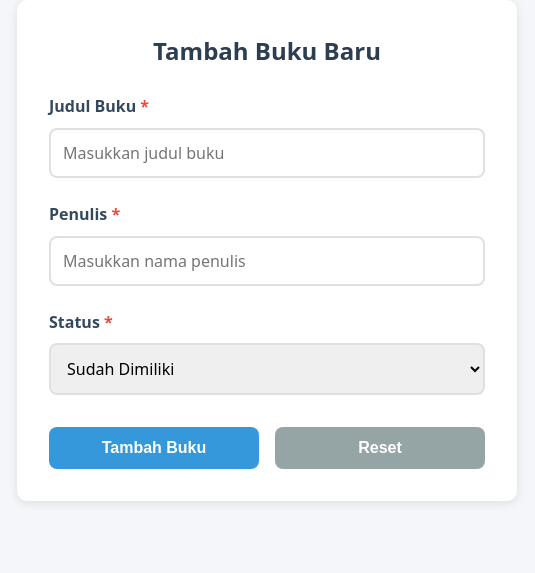
BookForm Component › should show validation errors for short inputs
# Isi dengan input yang terlalu pendek
Step 1. Type "ab" into the field labelled "Judul Buku *" → coordinates (267, 153), box [49, 128, 485, 178]
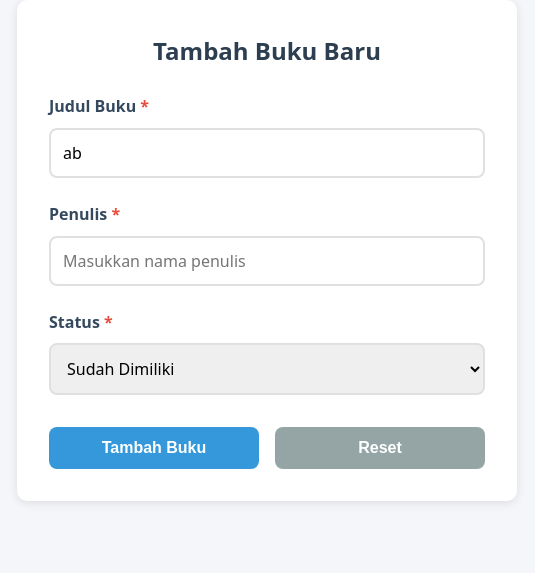
Step 2. Type "cd" into the field labelled "Penulis *" → coordinates (267, 261), box [49, 236, 485, 286]
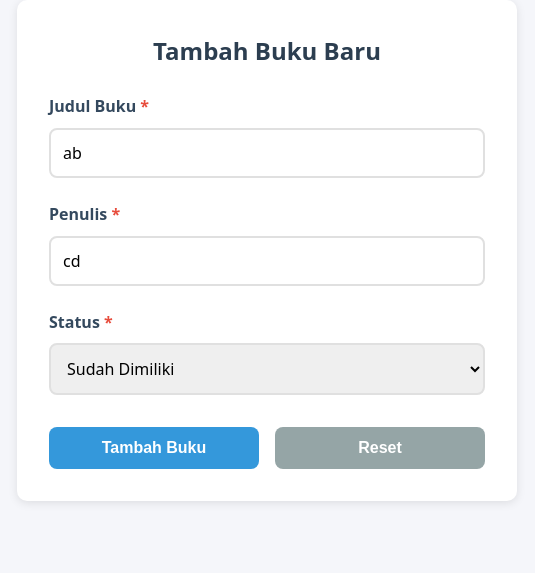
Step 3. Click the button "Tambah Buku" → coordinates (154, 448), box [49, 427, 259, 469]
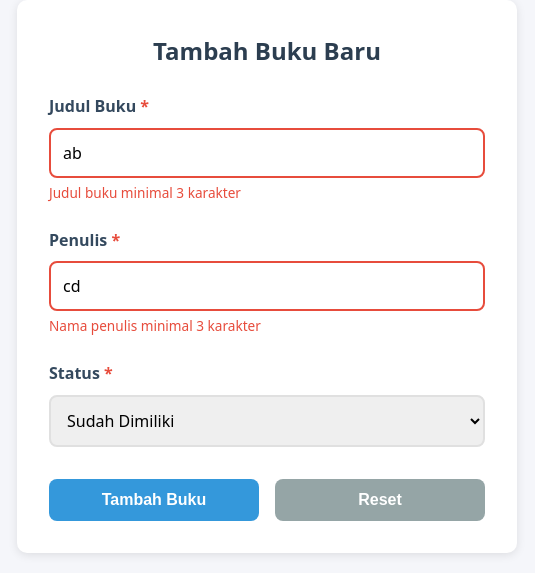
Now the text "Judul buku minimal 3 karakter" is shown, box [49, 183, 241, 202]
Now the text "Nama penulis minimal 3 karakter" is shown, box [49, 316, 261, 335]
